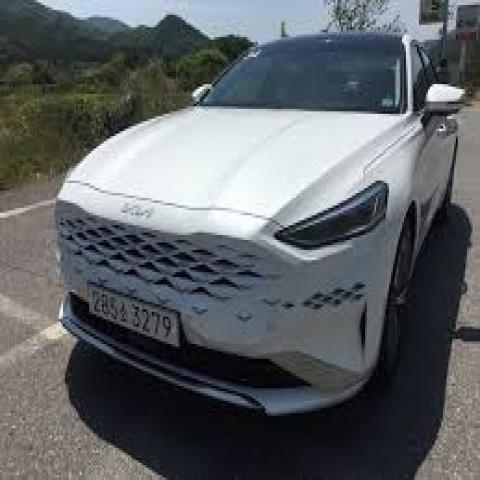LP: (84, 276, 188, 353)
